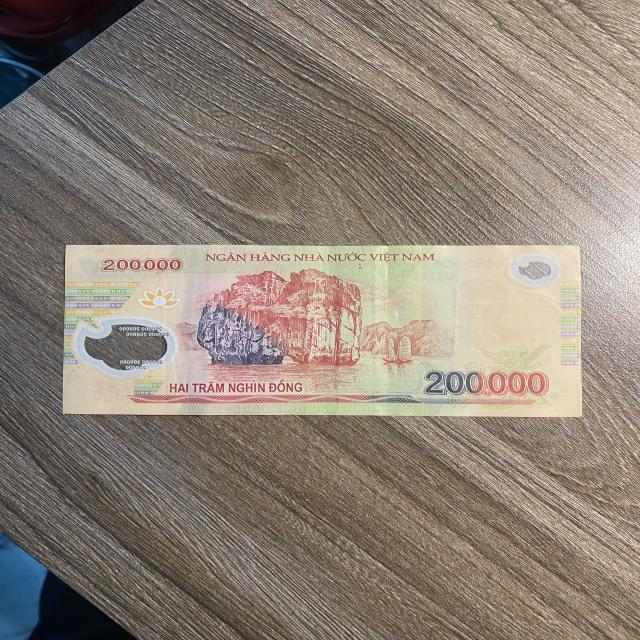200 000 VND: (47, 230, 597, 434)
